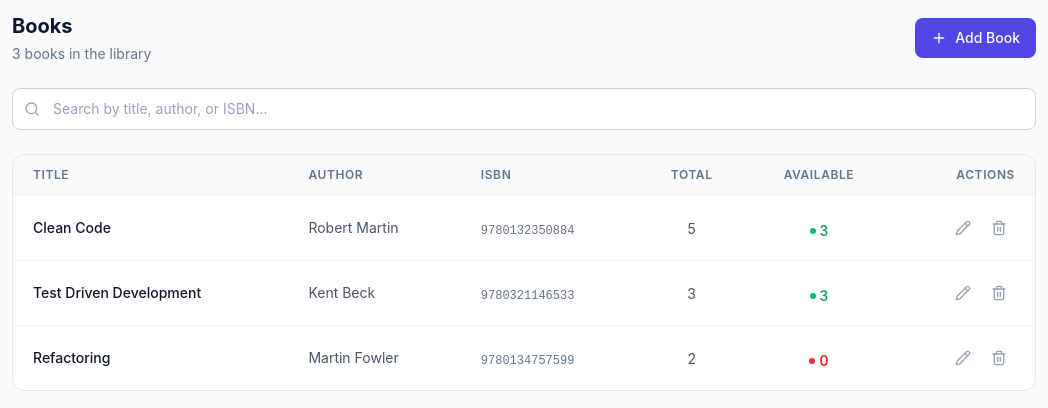
Scenario: Books › shows "No books found" when search has no matches
The width and height of the screenshot is (1048, 408).
expect the text "Clean Code" is shown: met, box [33,219,111,236]
Type "nonexistent" into the field with placeholder "Search by title, author, or ISBN..." at (524, 109), box [12,88,1036,130]
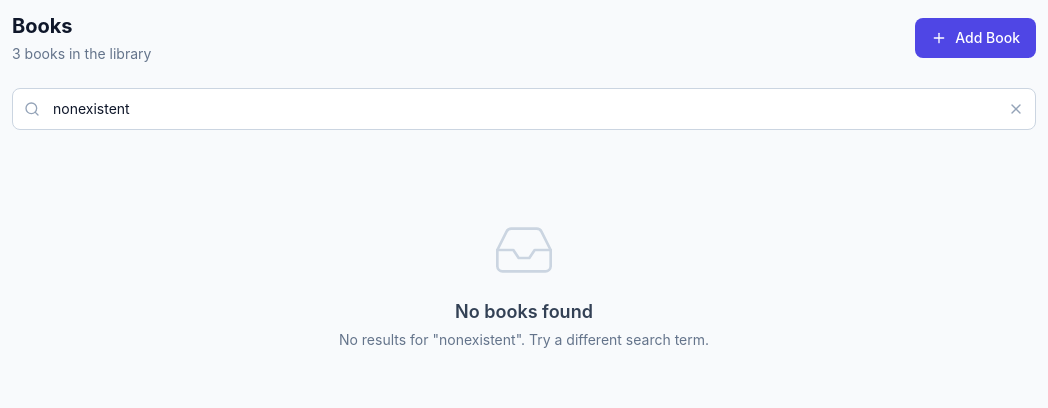
expect the heading "No books found" is shown: met, box [455,298,593,326]
